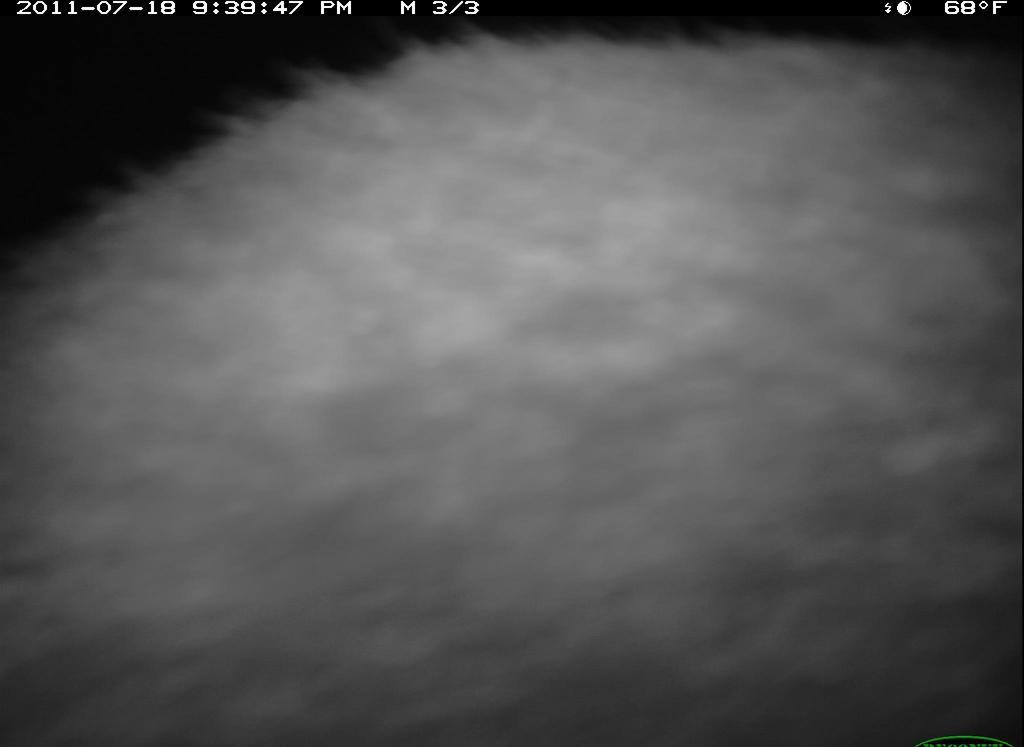raccoon: (1, 31, 1023, 747)
